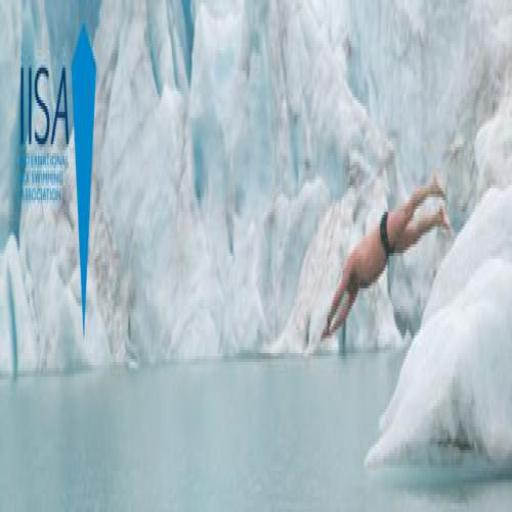swimming: (318, 168, 454, 350)
